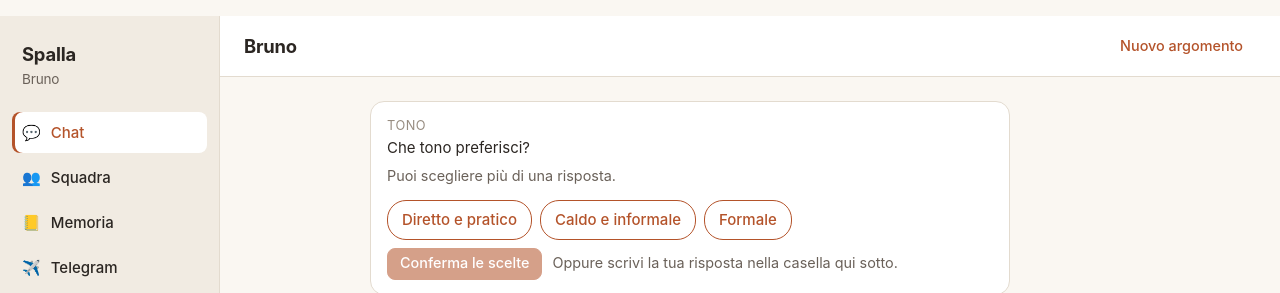
Scenario: la chat nella finestra › domande a scelta multipla: si scelgono più chip e si conferma
Later steps or results of the test are not shown.
(page scrolled)
Expected: the text "Puoi scegliere più di una risposta." is shown, top-left (387, 167), bottom-right (616, 184)
Expected: the button "Conferma le scelte" is disabled, top-left (387, 248), bottom-right (542, 280)
Click the button "Diretto e pratico": (460, 220) top-left (387, 200), bottom-right (532, 240)
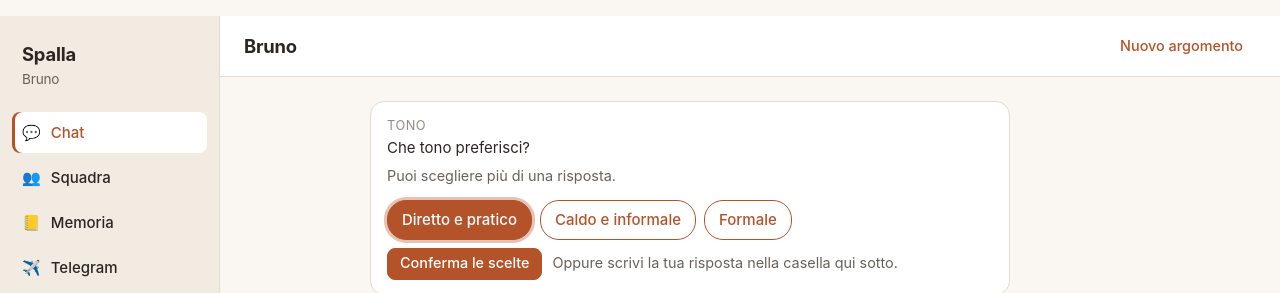
Click the button "Formale": (748, 220) top-left (704, 200), bottom-right (792, 240)
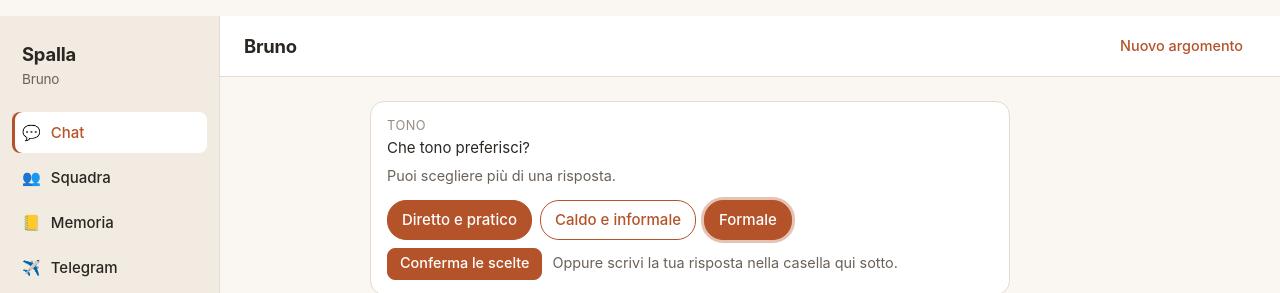
Expected: the button "Formale" is pressed, top-left (704, 200), bottom-right (792, 240)
